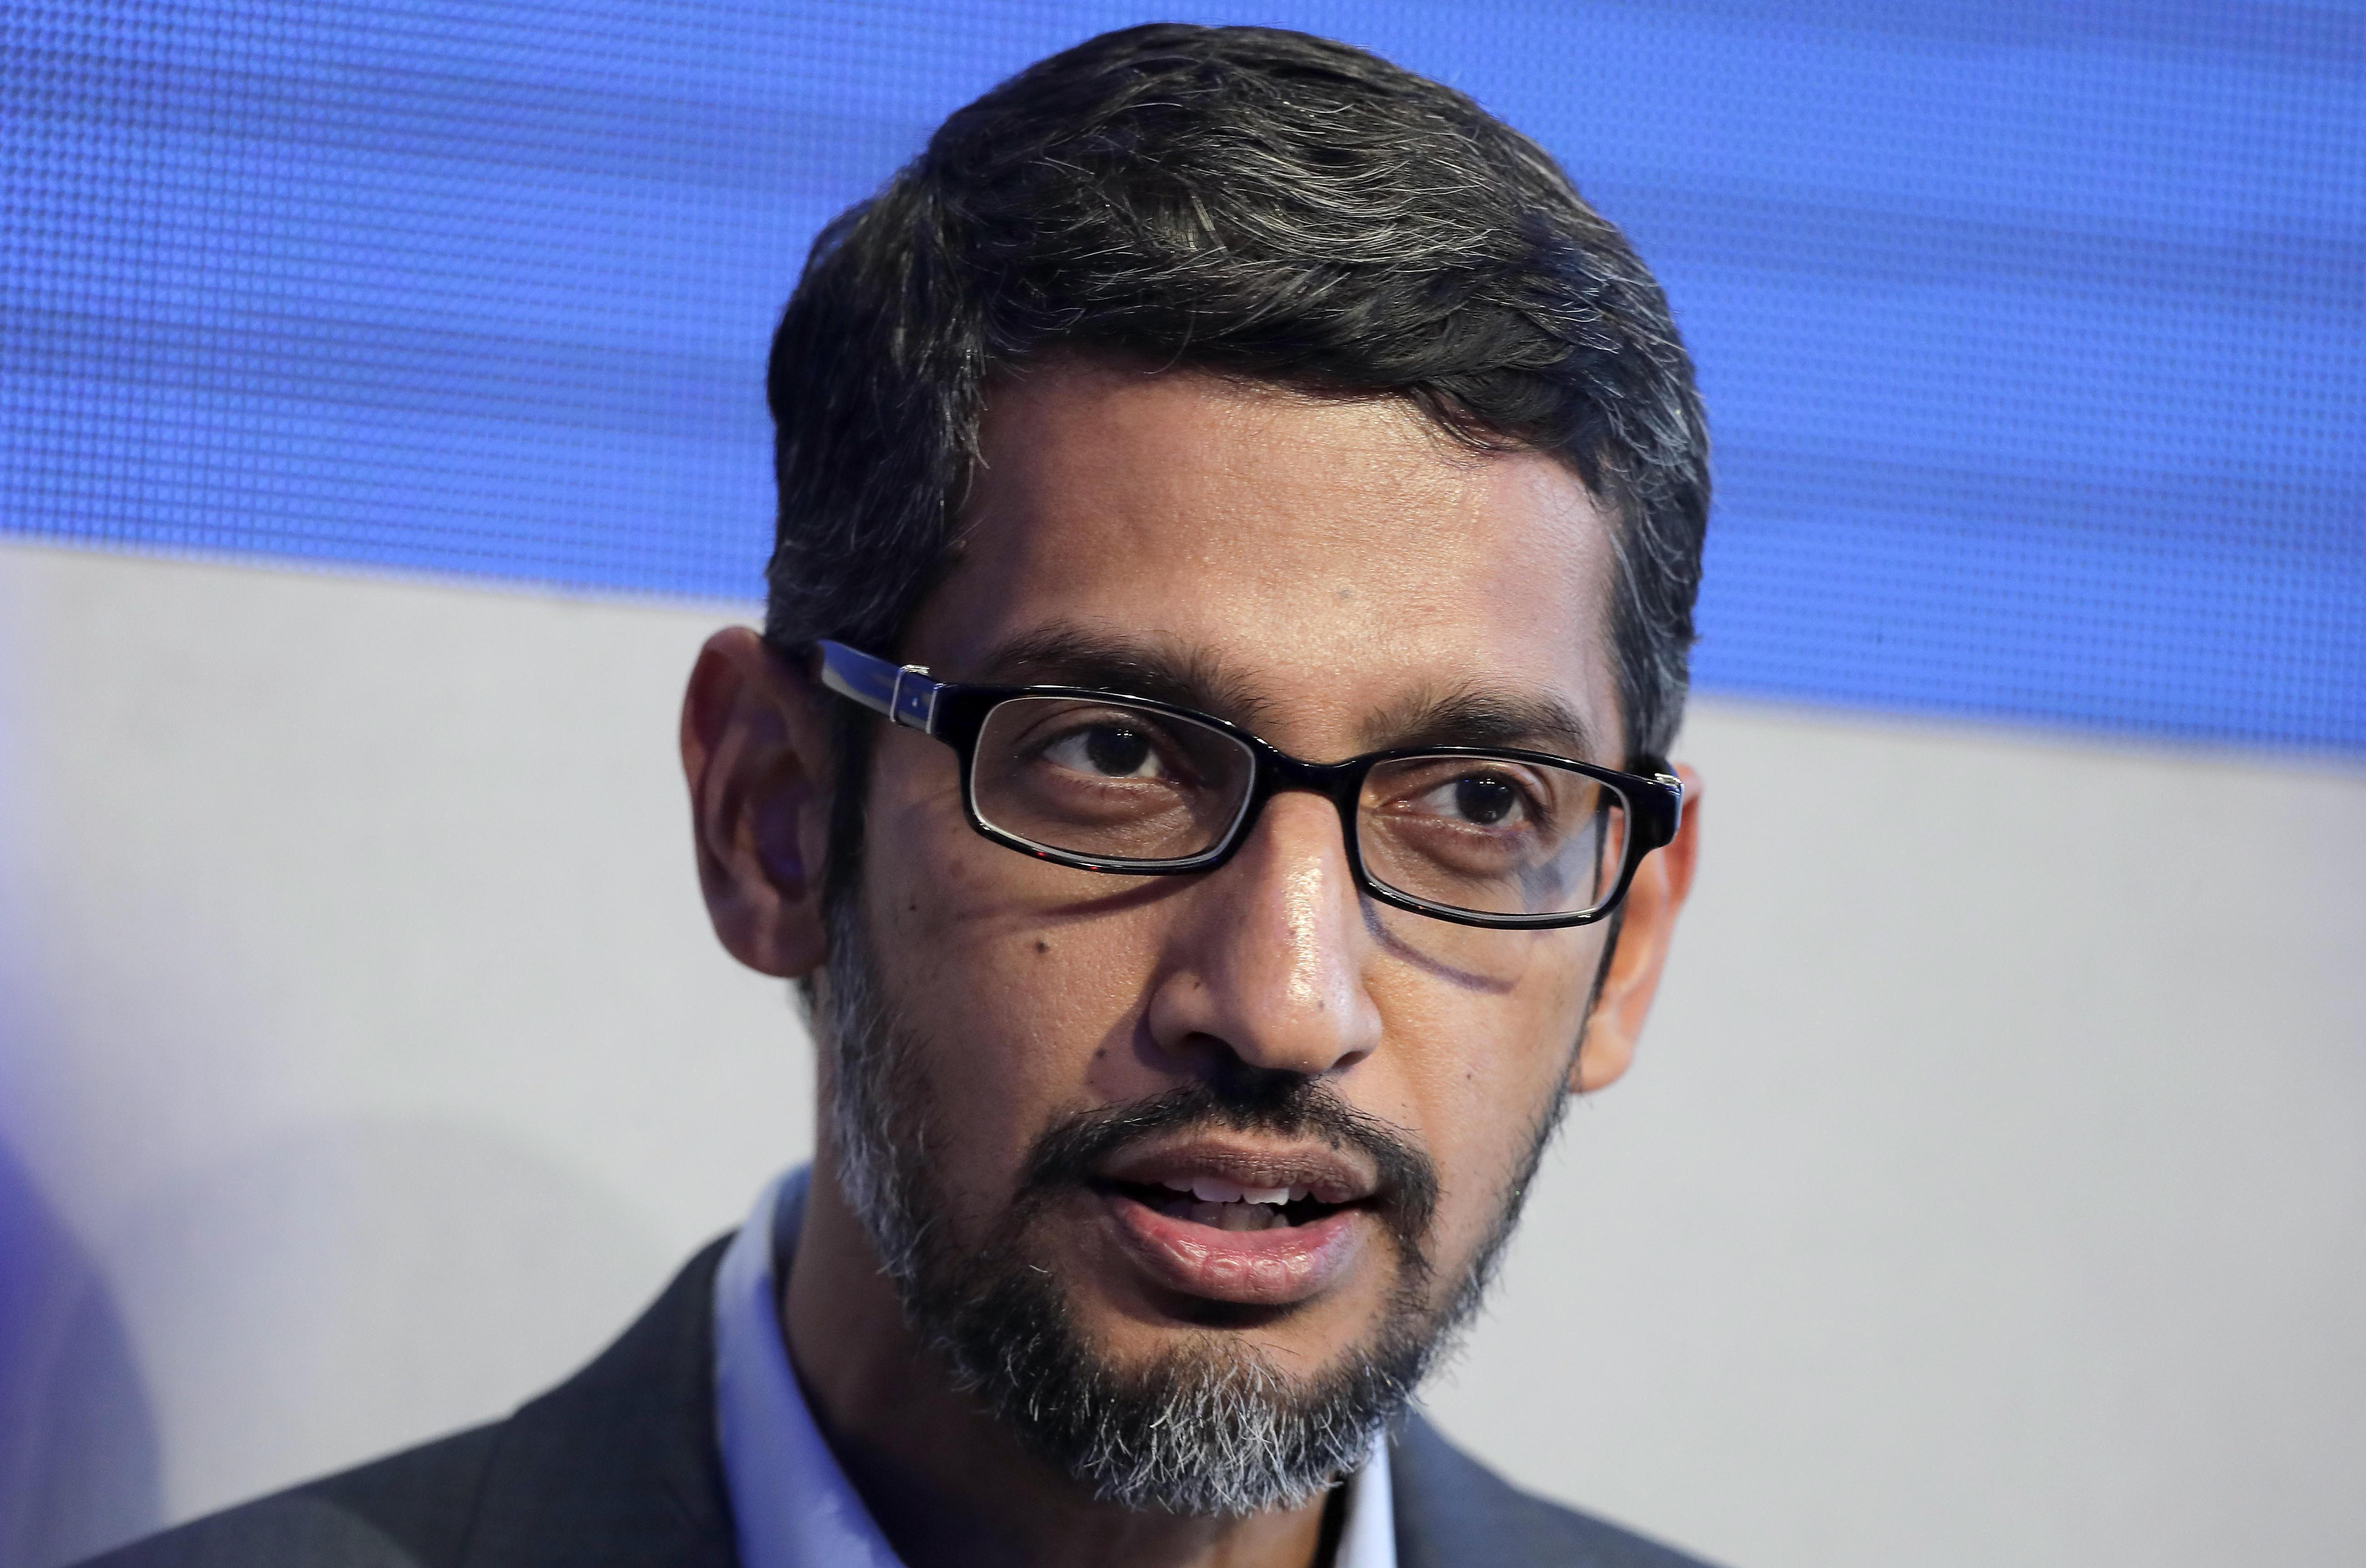Sober: (885, 394, 1603, 1358)
